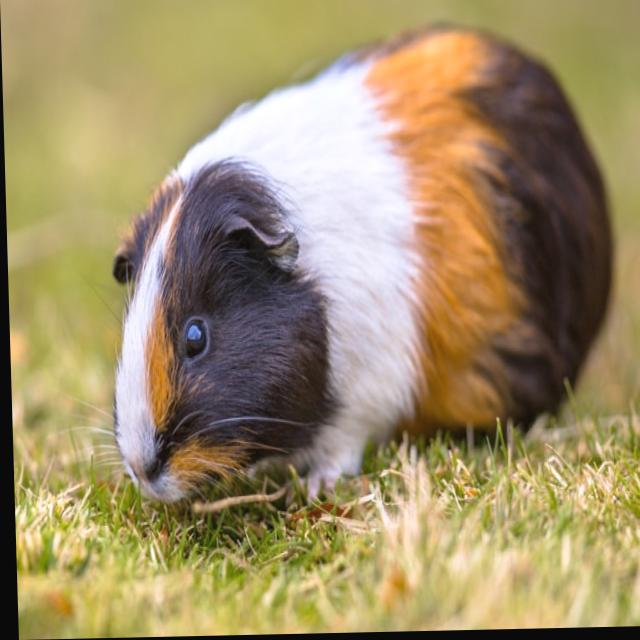guinea pig: (103, 25, 617, 507)
